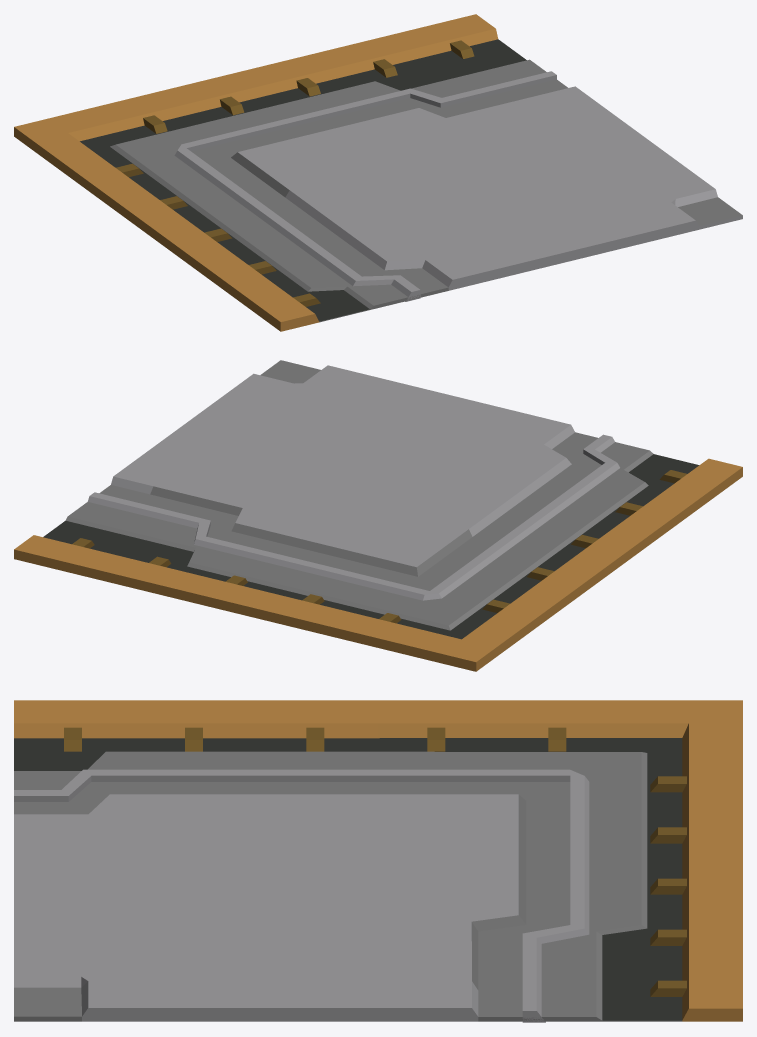
Rendered from quaternius-modular-sci-fi-floor-tile-corner.glb.
3 views of the same model, one above another, from view 1: azimuth 30°, elevation 25°; view 2: azimuth 150°, elevation 25°; view 3: azimuth 270°, elevation 25° (orthographic). The views are drawn at different scales.
Visible parts, largest first — view 1: FloorTile_Corner; view 2: FloorTile_Corner; view 3: FloorTile_Corner.
Part boxes in pixels (x1,y1,x2,y2): FloorTile_Corner: (14, 14, 742, 331); FloorTile_Corner: (14, 360, 742, 671); FloorTile_Corner: (14, 700, 742, 1022).
Size of the model in its own units: 2 by 0.0615 by 2.
Materials: 1 (1 with a texture image).
